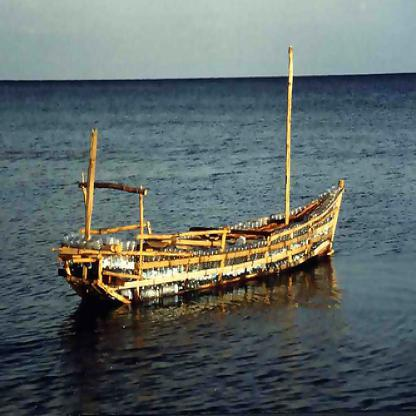boat: (52, 41, 343, 309)
